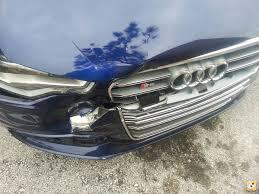bonnet-dent: (17, 16, 203, 93)
front-bumper-dent: (33, 96, 139, 163)
